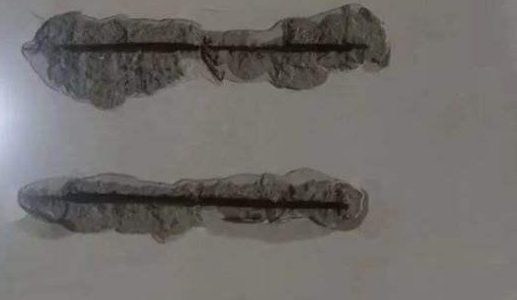Exposed reinforcement: (55, 190, 349, 210), (58, 43, 370, 52)
Spalling: (20, 1, 392, 111), (16, 167, 370, 245)
